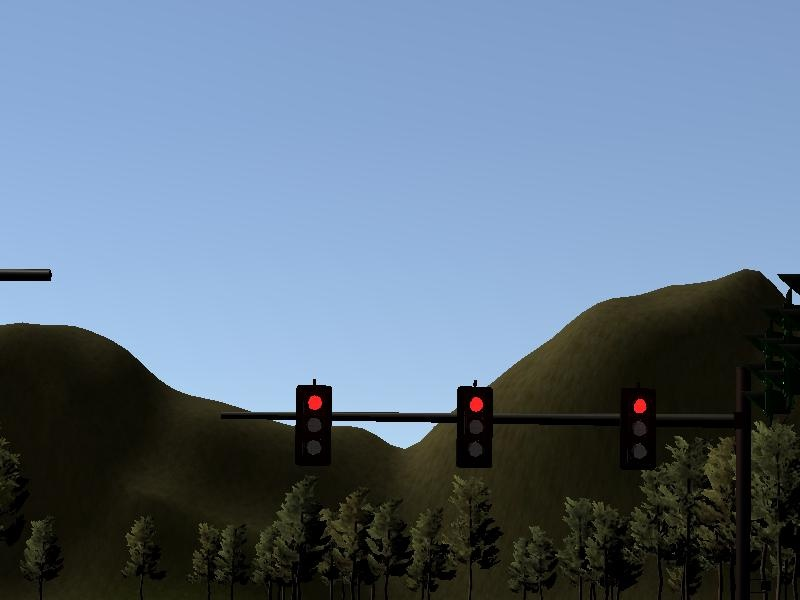red: (295, 385, 335, 466), (457, 387, 494, 469), (623, 390, 658, 470)
